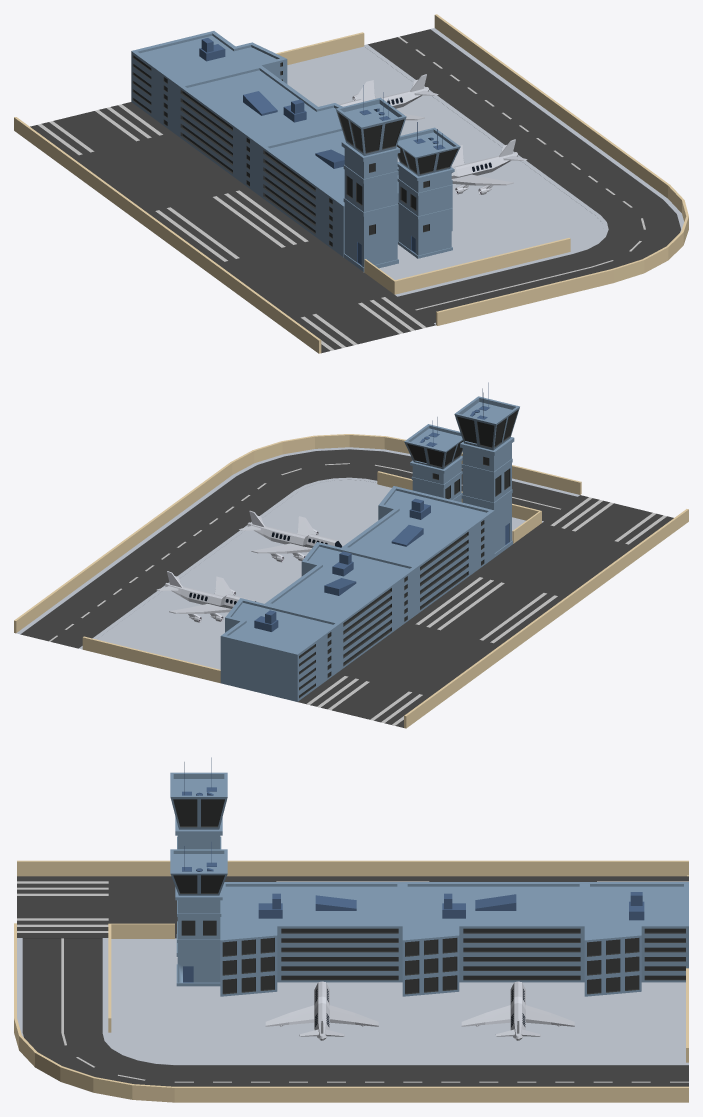
The model's file is infrastructure-building-airport.fbx.
3 views of the same model, one above another, from view 1: azimuth 30°, elevation 25°; view 2: azimuth 150°, elevation 25°; view 3: azimuth 270°, elevation 25° (orthographic). The views are drawn at different scales.
Parts seen in each view (by area): view 1: infrastructure-building-airport, 1.1 low-poly-airplance.001, 1.1 low-poly-airplance; view 2: infrastructure-building-airport, 1.1 low-poly-airplance.001, 1.1 low-poly-airplance; view 3: infrastructure-building-airport, 1.1 low-poly-airplance, 1.1 low-poly-airplance.001.
Boxes of the visible parts, bbox=[...] form: infrastructure-building-airport: bbox=[14, 14, 688, 353]; 1.1 low-poly-airplance.001: bbox=[451, 139, 527, 194]; 1.1 low-poly-airplance: bbox=[339, 74, 438, 120]; infrastructure-building-airport: bbox=[14, 382, 688, 728]; 1.1 low-poly-airplance.001: bbox=[239, 510, 342, 562]; 1.1 low-poly-airplance: bbox=[156, 571, 255, 622]; infrastructure-building-airport: bbox=[14, 757, 688, 1102]; 1.1 low-poly-airplance: bbox=[461, 981, 574, 1040]; 1.1 low-poly-airplance.001: bbox=[265, 981, 378, 1040].
Bounding box in the file's own units: 86.42 × 33.51 × 108.
